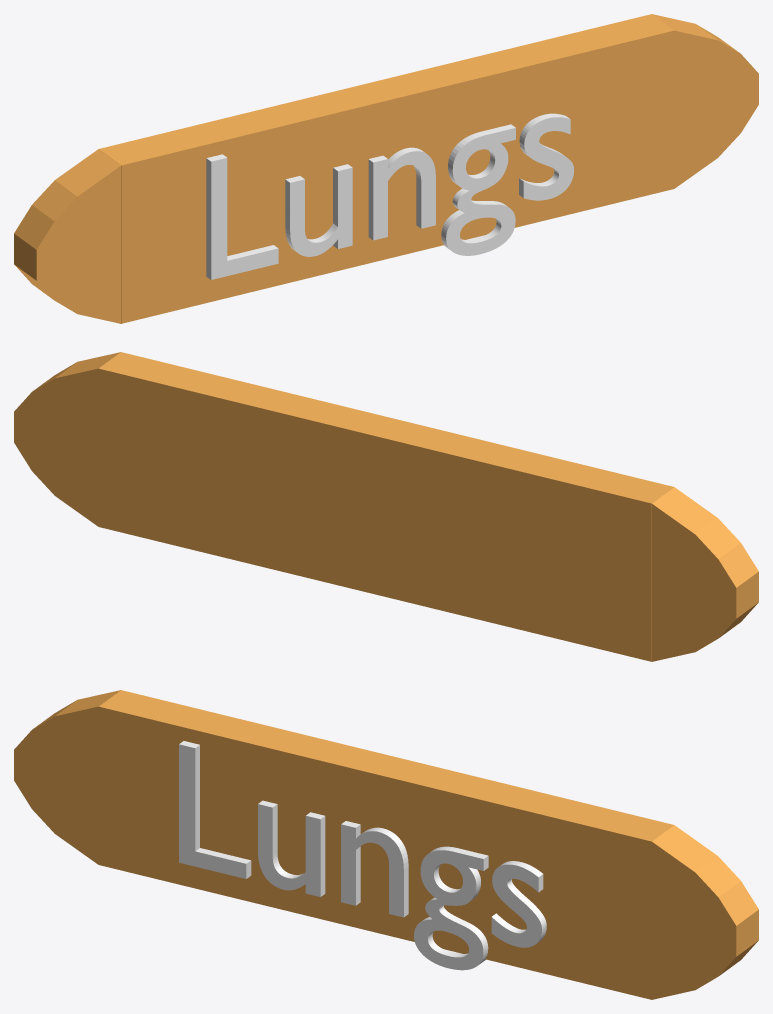
File: TxtLUNGS.fbx
The picture shows the model from 3 angles, top to bottom: view 1: azimuth 30°, elevation 25°; view 2: azimuth 150°, elevation 25°; view 3: azimuth 330°, elevation 25°; orthographic projection.
Parts seen in each view (by area): view 1: TagContainer.048, Text.040; view 2: TagContainer.048; view 3: TagContainer.048, Text.040.
Part boxes in pixels (bbox=[...]): TagContainer.048: bbox=[14, 14, 758, 323]; Text.040: bbox=[206, 113, 573, 279]; TagContainer.048: bbox=[14, 352, 758, 661]; TagContainer.048: bbox=[14, 690, 758, 999]; Text.040: bbox=[179, 741, 546, 970].
Bounding box in the file's own units: 197 × 44.79 × 12.93.
